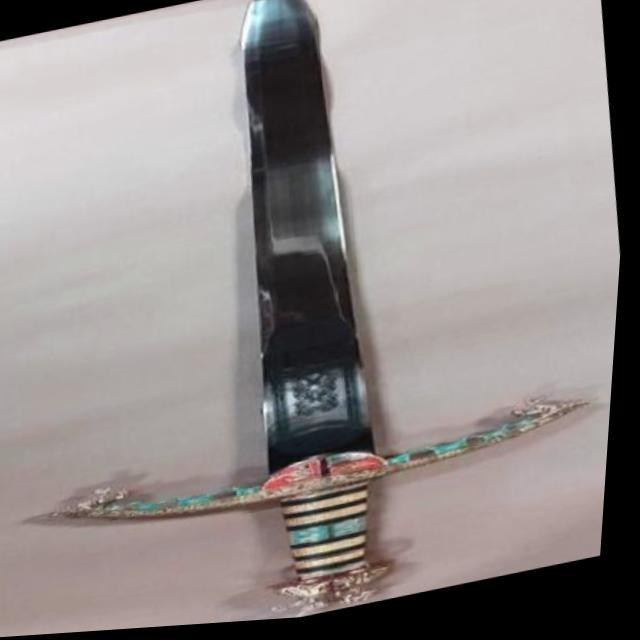weapon: (0, 0, 633, 639)
